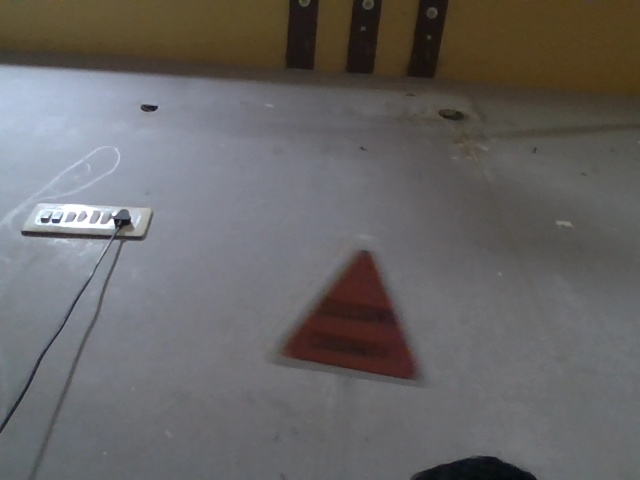slowdown: (273, 233, 417, 378)
